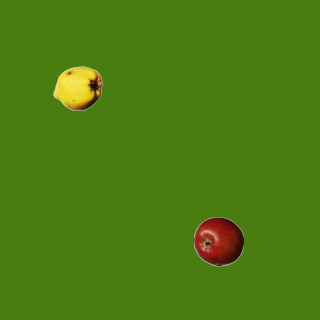Apple Braeburn: (193, 216, 243, 266)
Quince: (52, 63, 102, 113)
